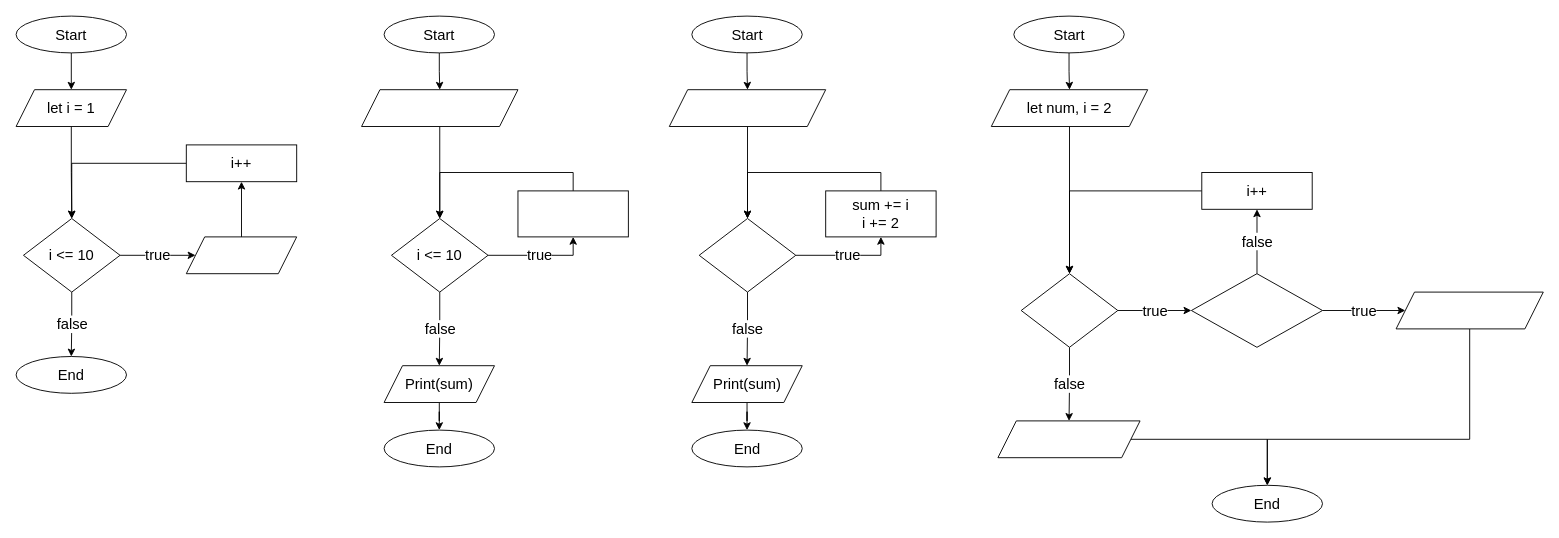
Some shapes in this 1559 by 538 pixel diagram are drawn without their labels. Here are the shapes that lost their labels. From the top down, the centre of each, then its label:
At point 439,107: "let i = 1, sum = 0".
At point 747,107: "let i = 2, sum = 0".
At point 572,213: "sum += i++".
At point 241,255: "Print(i)".
At point 747,255: "i <= 20".
At point 1069,310: "i < num".
At point 1256,310: "num % i == 0".
At point 1469,310: "Print(Sade deyil)".
At point 1068,439: "Print(Sadedir)".
